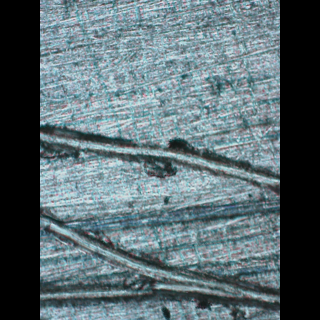d: (40, 210, 280, 309), (40, 119, 280, 194)
